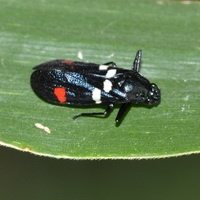insect: (31, 50, 160, 125)
